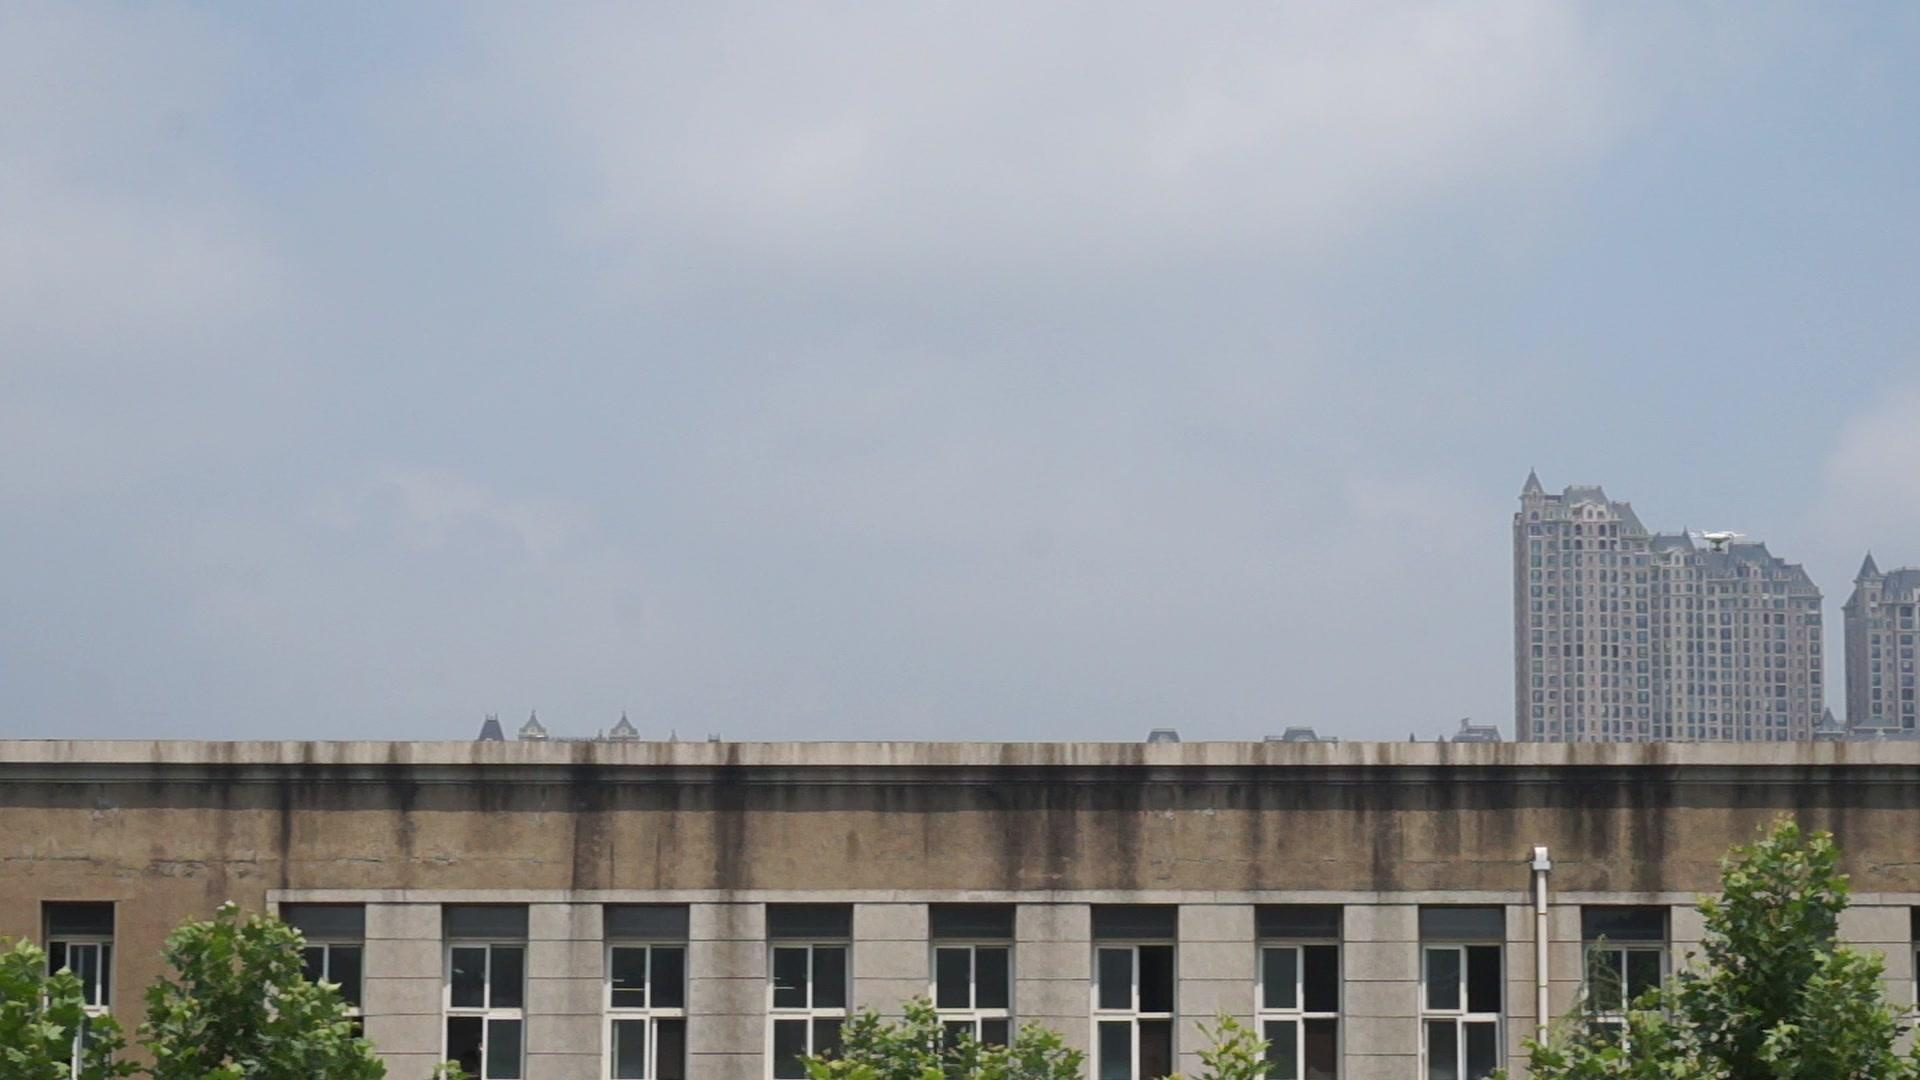UAV: (1693, 530, 1749, 553)
